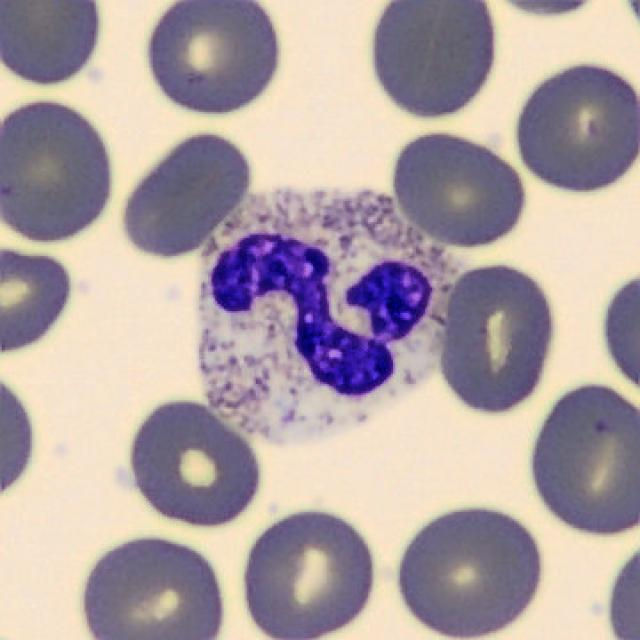Neutrofilo segmentado: (199, 190, 459, 439)
